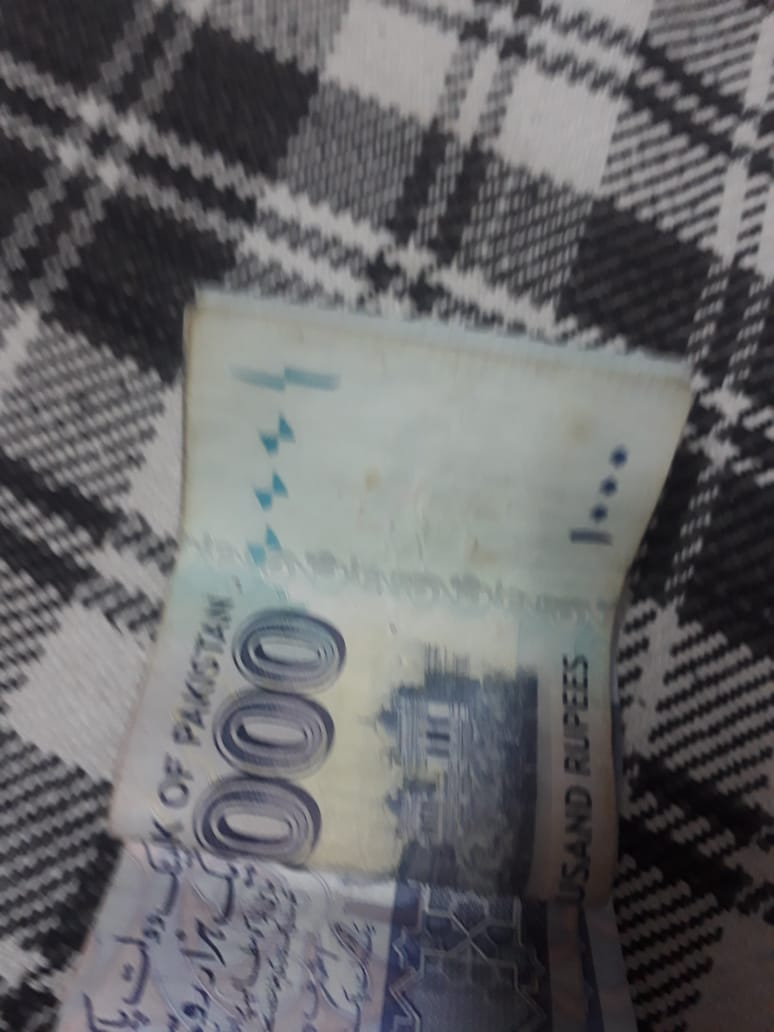1000 rupee: (58, 294, 690, 949)
